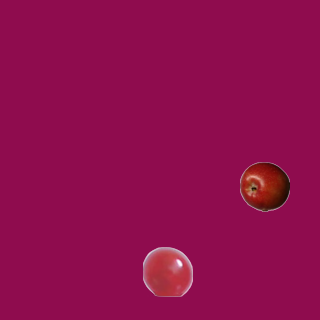Apple Braeburn: (239, 161, 289, 211)
Redcurrant: (142, 246, 192, 296)
